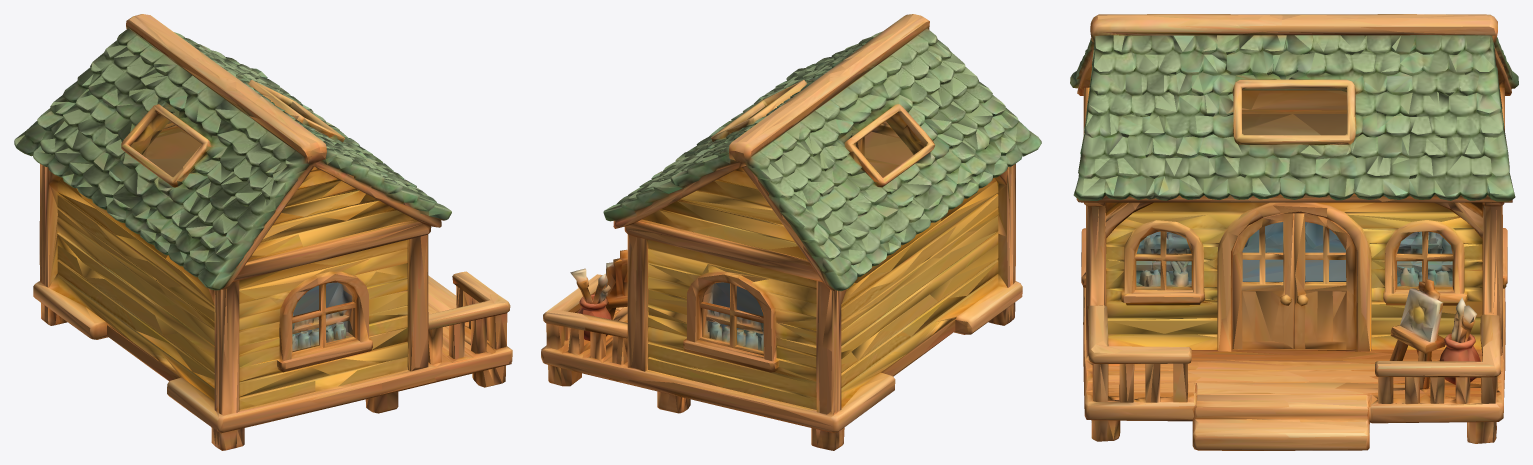
File: F30-studio-cottage.glb
3 views of the same model, side by side, from view 1: azimuth 30°, elevation 25°; view 2: azimuth 150°, elevation 25°; view 3: azimuth 270°, elevation 25° (orthographic). The views are drawn at different scales.
Visible parts, largest first — view 1: F30-studio-cottage; view 2: F30-studio-cottage; view 3: F30-studio-cottage.
Part boxes in pixels (x1=…): F30-studio-cottage: x1=14, y1=14, x2=512, y2=450; F30-studio-cottage: x1=541, y1=14, x2=1041, y2=450; F30-studio-cottage: x1=1070, y1=14, x2=1518, y2=450.
Size of the model in its own units: 5.16 by 4.2 by 5.31.
1 material, 1 textured.
